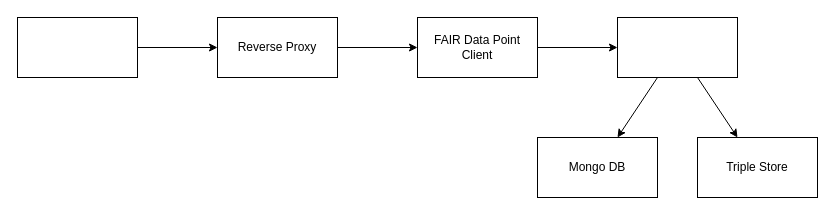
Some shapes in this 835 by 215 pixel diagram are drawn without their labels. Each missing label, with the centre of its shape:
FAIR Data Point: (x=677, y=47)
HTTP Client: (x=77, y=47)
